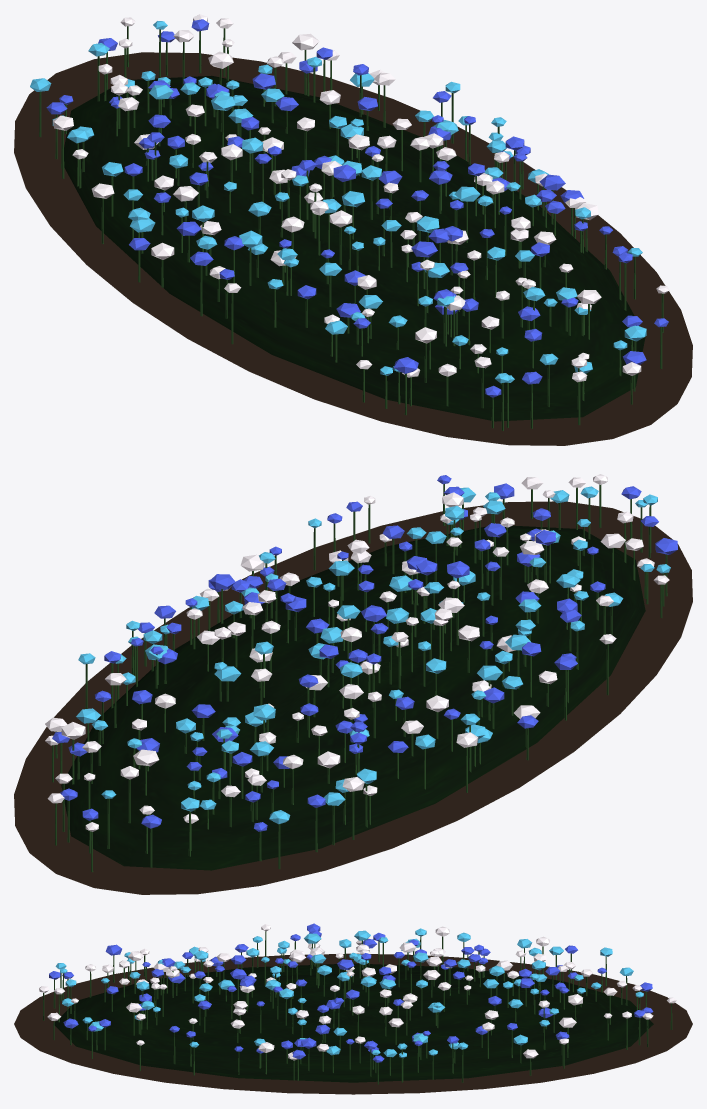
Rendered from flower-bed-10.glb.
The picture shows the model from 3 angles, top to bottom: view 1: azimuth 30°, elevation 25°; view 2: azimuth 150°, elevation 25°; view 3: azimuth 270°, elevation 25°; orthographic projection. The views are drawn at different scales.
Visible parts, largest first — view 1: flower-bed-10_MeshStandardMaterial (×4); view 2: flower-bed-10_MeshStandardMaterial (×4); view 3: flower-bed-10_MeshStandardMaterial (×4).
Part boxes in pixels (left/top/right/bottom): flower-bed-10_MeshStandardMaterial (×4): left=14, top=14, right=692, bottom=445; flower-bed-10_MeshStandardMaterial (×4): left=14, top=474, right=692, bottom=894; flower-bed-10_MeshStandardMaterial (×4): left=14, top=923, right=692, bottom=1094.
Size of the model in its own units: 2.7 by 0.5606 by 5.5.
Materials: 4 (1 with a texture image).
